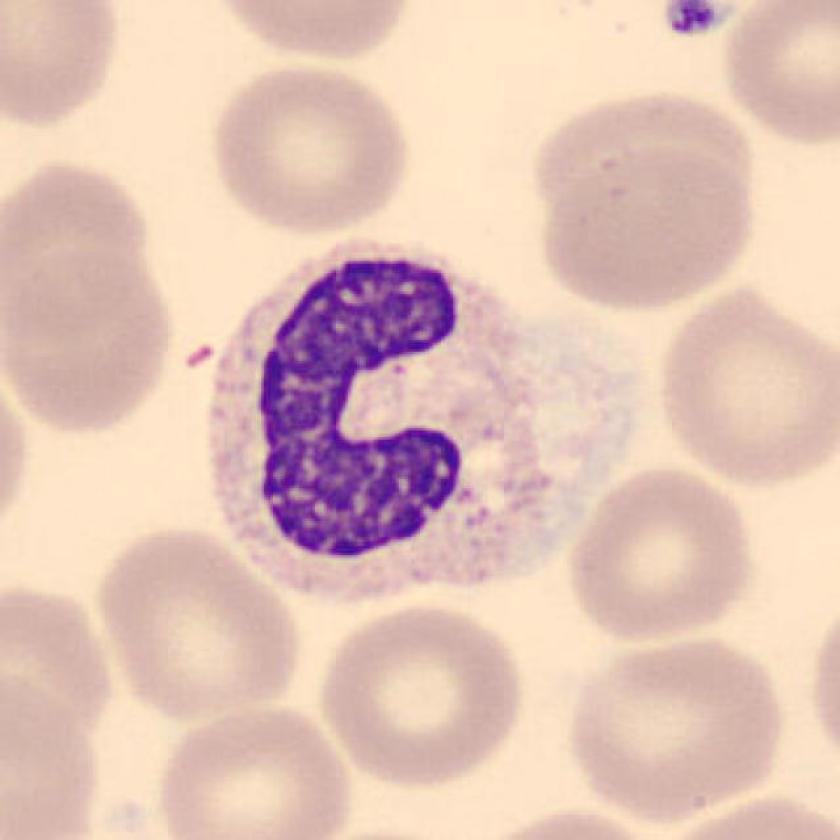neutrophil: (213, 244, 642, 597)
